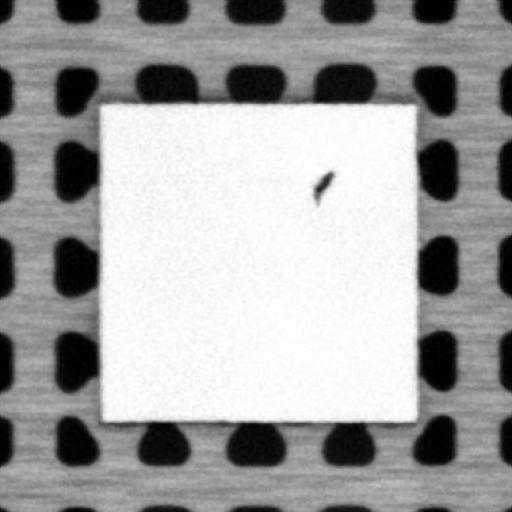DIE_INK: (308, 169, 334, 204)
